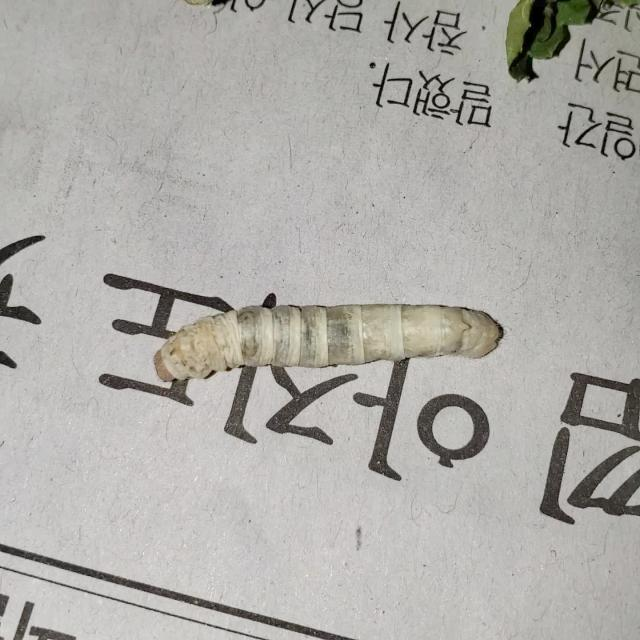Grasserie: (146, 263, 566, 489)
